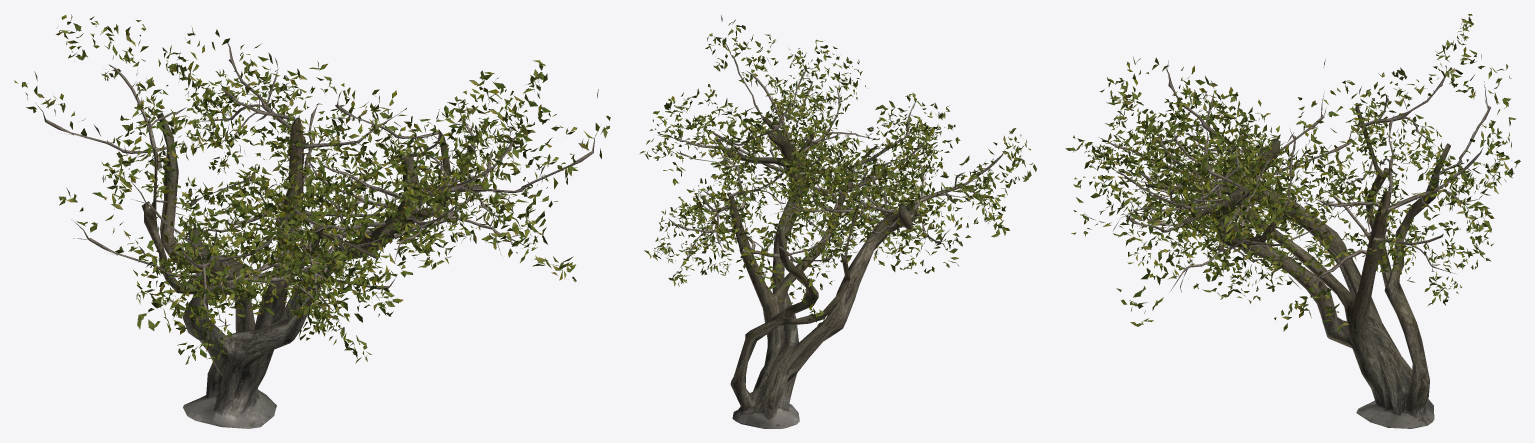
Rendered from arbre_feuillu_jeune_lod0.glb.
3 views of the same model, side by side, from view 1: azimuth 30°, elevation 25°; view 2: azimuth 150°, elevation 25°; view 3: azimuth 270°, elevation 25° (orthographic). The views are drawn at different scales.
Visible parts, largest first — view 1: island_tree_02_LOD0; view 2: island_tree_02_LOD0; view 3: island_tree_02_LOD0.
Part boxes in pixels (bbox=[...]): island_tree_02_LOD0: bbox=[14, 14, 610, 428]; island_tree_02_LOD0: bbox=[640, 15, 1036, 428]; island_tree_02_LOD0: bbox=[1065, 14, 1520, 428].
Size of the model in its own units: 3.89 by 3.38 by 4.05.
Materials: 3 (3 with a texture image).
